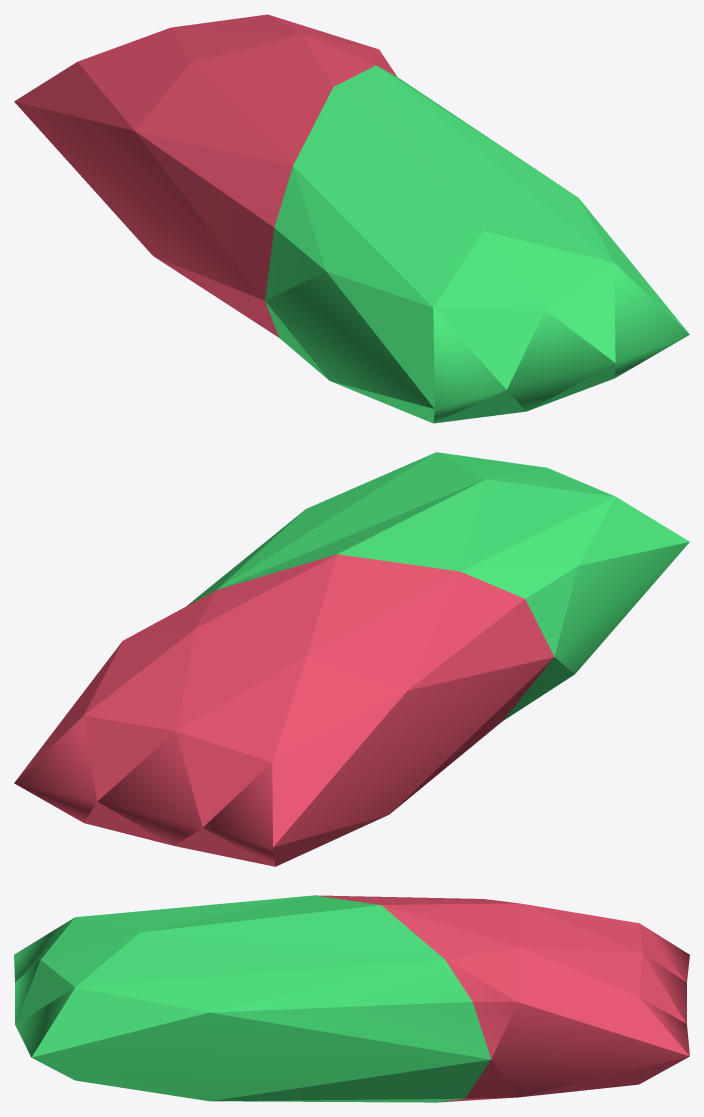
File: Snack10.fbx
The picture shows the model from 3 angles, top to bottom: view 1: azimuth 30°, elevation 25°; view 2: azimuth 150°, elevation 25°; view 3: azimuth 270°, elevation 25°; orthographic projection. The views are drawn at different scales.
Visible parts, largest first — view 1: Snack10; view 2: Snack10; view 3: Snack10.
Part boxes in pixels (bbox=[...]): Snack10: bbox=[14, 14, 689, 423]; Snack10: bbox=[14, 452, 689, 866]; Snack10: bbox=[14, 895, 689, 1102].
Size of the model in its own units: 11.33 by 8.81 by 28.75.
